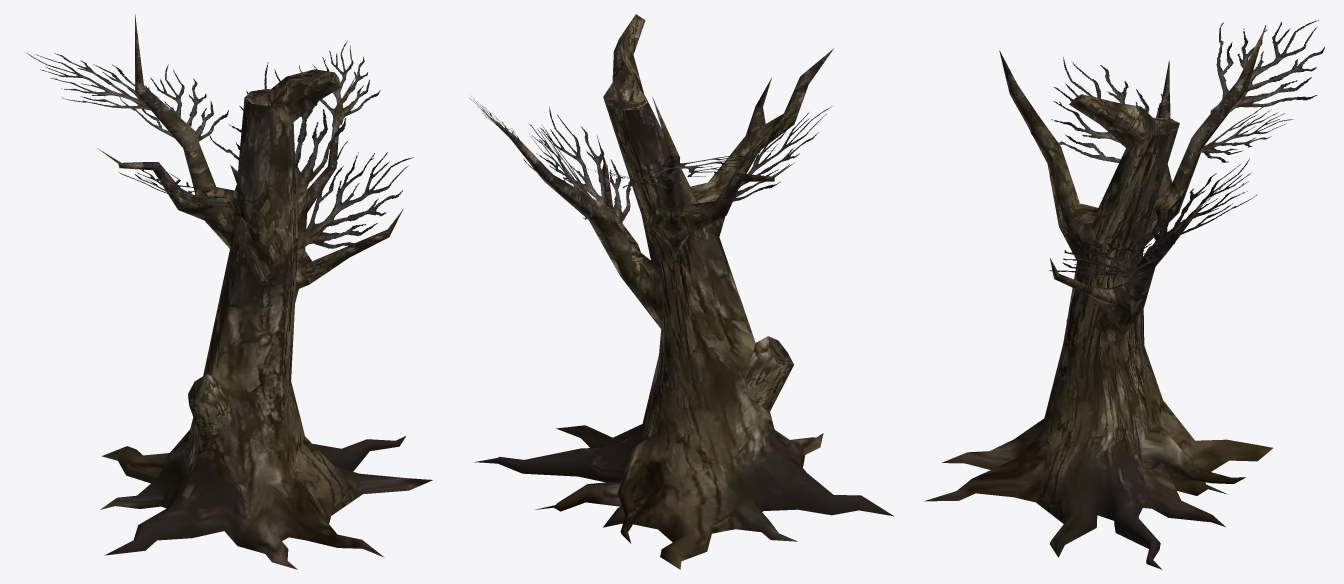
Rendered from environment_Tree_kushu_05_b.FBX.
3 renders of one model, left to right at view 1: azimuth 30°, elevation 25°; view 2: azimuth 150°, elevation 25°; view 3: azimuth 270°, elevation 25°, orthographic. The views are drawn at different scales.
Parts seen in each view (by area): view 1: environment_Tree_kushu_05_a, environment_Tree_kushu_05_b; view 2: environment_Tree_kushu_05_a, environment_Tree_kushu_05_b; view 3: environment_Tree_kushu_05_a, environment_Tree_kushu_05_b.
Boxes of the visible parts, x1,y1,x2,y2 form: environment_Tree_kushu_05_a: (97,14,432,569); environment_Tree_kushu_05_b: (25,41,413,249); environment_Tree_kushu_05_a: (474,14,893,569); environment_Tree_kushu_05_b: (470,96,833,236); environment_Tree_kushu_05_a: (924,26,1272,569); environment_Tree_kushu_05_b: (1049,20,1324,277).
Size of the model in its own units: 99.26 by 119 by 99.7.
Materials: 2 (2 with a texture image).
